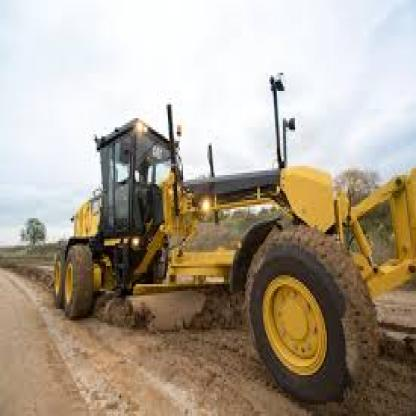bull_dozer/loader/grader: (48, 102, 414, 402)
